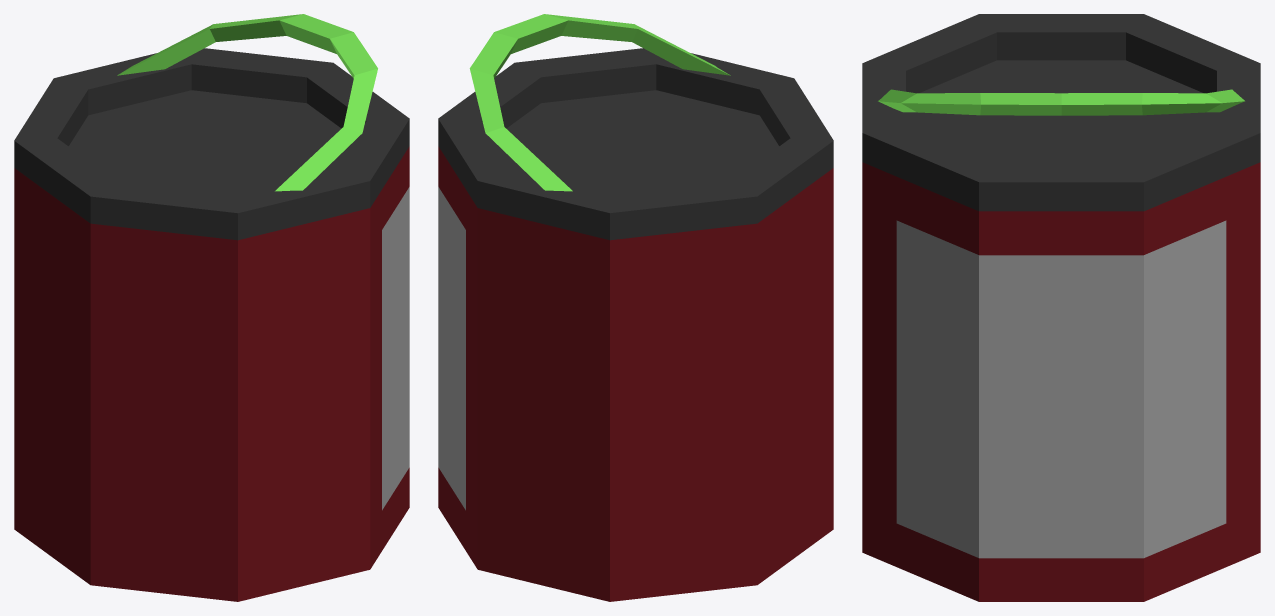
Rendered from Balde01.fbx.
3 views of the same model, side by side, from view 1: azimuth 30°, elevation 25°; view 2: azimuth 150°, elevation 25°; view 3: azimuth 270°, elevation 25° (orthographic). The views are drawn at different scales.
Visible parts, largest first — view 1: Cylinder.084; view 2: Cylinder.084; view 3: Cylinder.084.
Part boxes in pixels (x1=…): Cylinder.084: x1=14, y1=14, x2=409, y2=601; Cylinder.084: x1=438, y1=14, x2=833, y2=601; Cylinder.084: x1=862, y1=14, x2=1260, y2=601.
Size of the model in its own units: 46.43 by 62.75 by 46.43.
